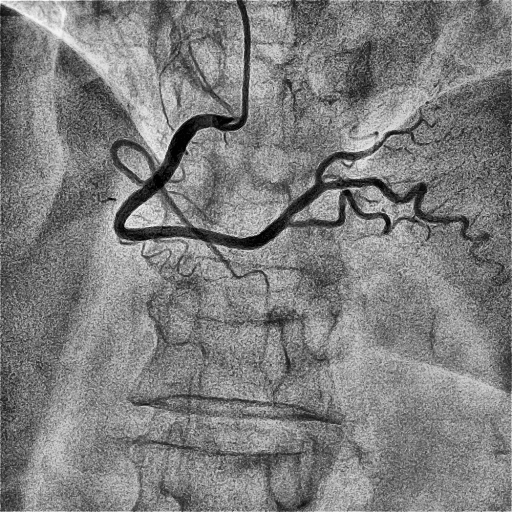pborca: (278, 151, 340, 220)
pda: (287, 189, 403, 235)
rca: (114, 114, 290, 250)
